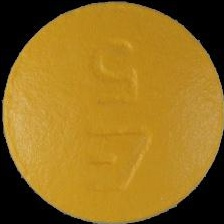60429-158: (0, 0, 224, 224)
